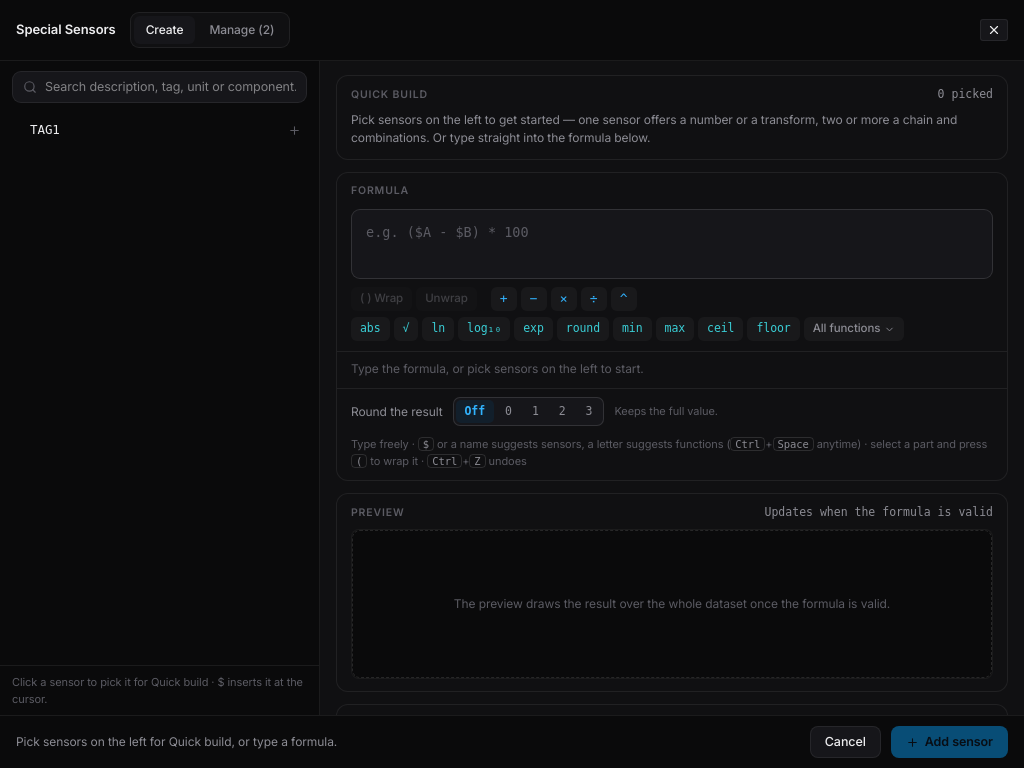
Test case: AddSensorWindow › refuses to delete a sensor another special sensor was built on
The width and height of the screenshot is (1024, 768).
Click the tab "Manage (2)": point(242, 30) [197,16,286,44]
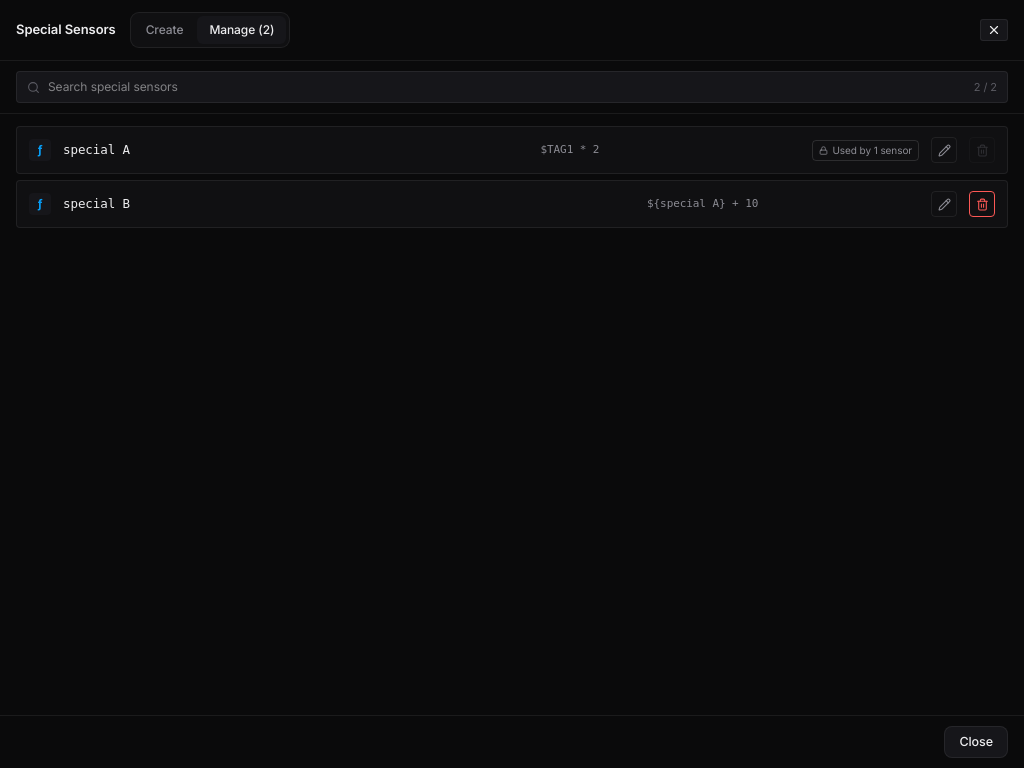
Expected: the button named "Delete special A" is disabled, [969,137,995,163]
Expected: the button named "Delete special B" is enabled, [969,191,995,217]
